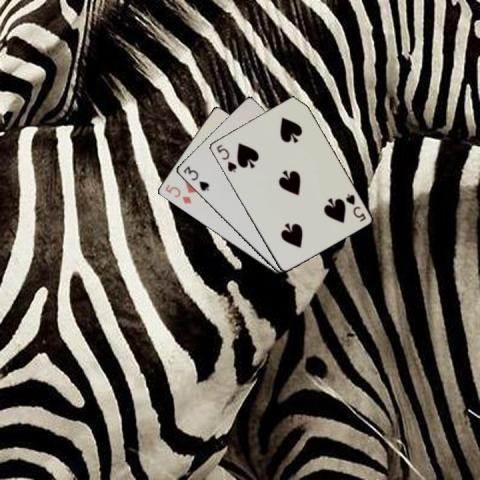3s: (180, 163, 210, 193)
5d: (162, 182, 193, 206)
5s: (213, 141, 238, 174), (342, 191, 366, 222)
